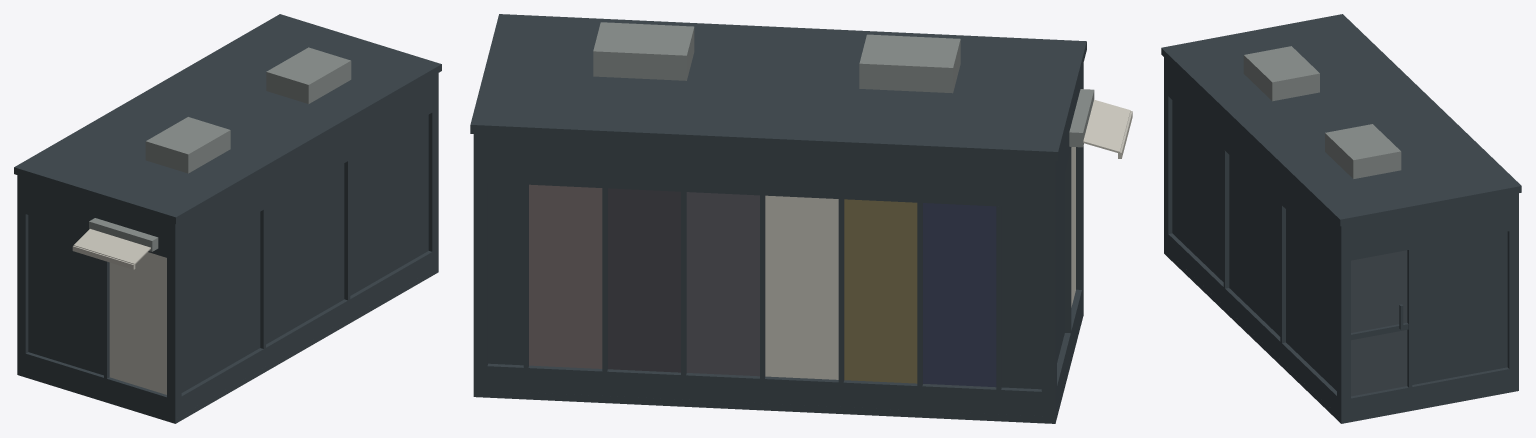
File: kiosk-museumplein.glb
3 views of the same model, side by side, from view 1: azimuth 30°, elevation 25°; view 2: azimuth 150°, elevation 25°; view 3: azimuth 270°, elevation 25° (orthographic). The views are drawn at different scales.
Parts seen in each view (by area): view 1: kiosk-museumplein; view 2: kiosk-museumplein; view 3: kiosk-museumplein.
Part boxes in pixels (x1,y1,x2,y2): kiosk-museumplein: (14, 14, 441, 423); kiosk-museumplein: (470, 14, 1132, 423); kiosk-museumplein: (1161, 14, 1521, 423).
Bounding box in the file's own units: 6.53 × 3.32 × 4.83.
